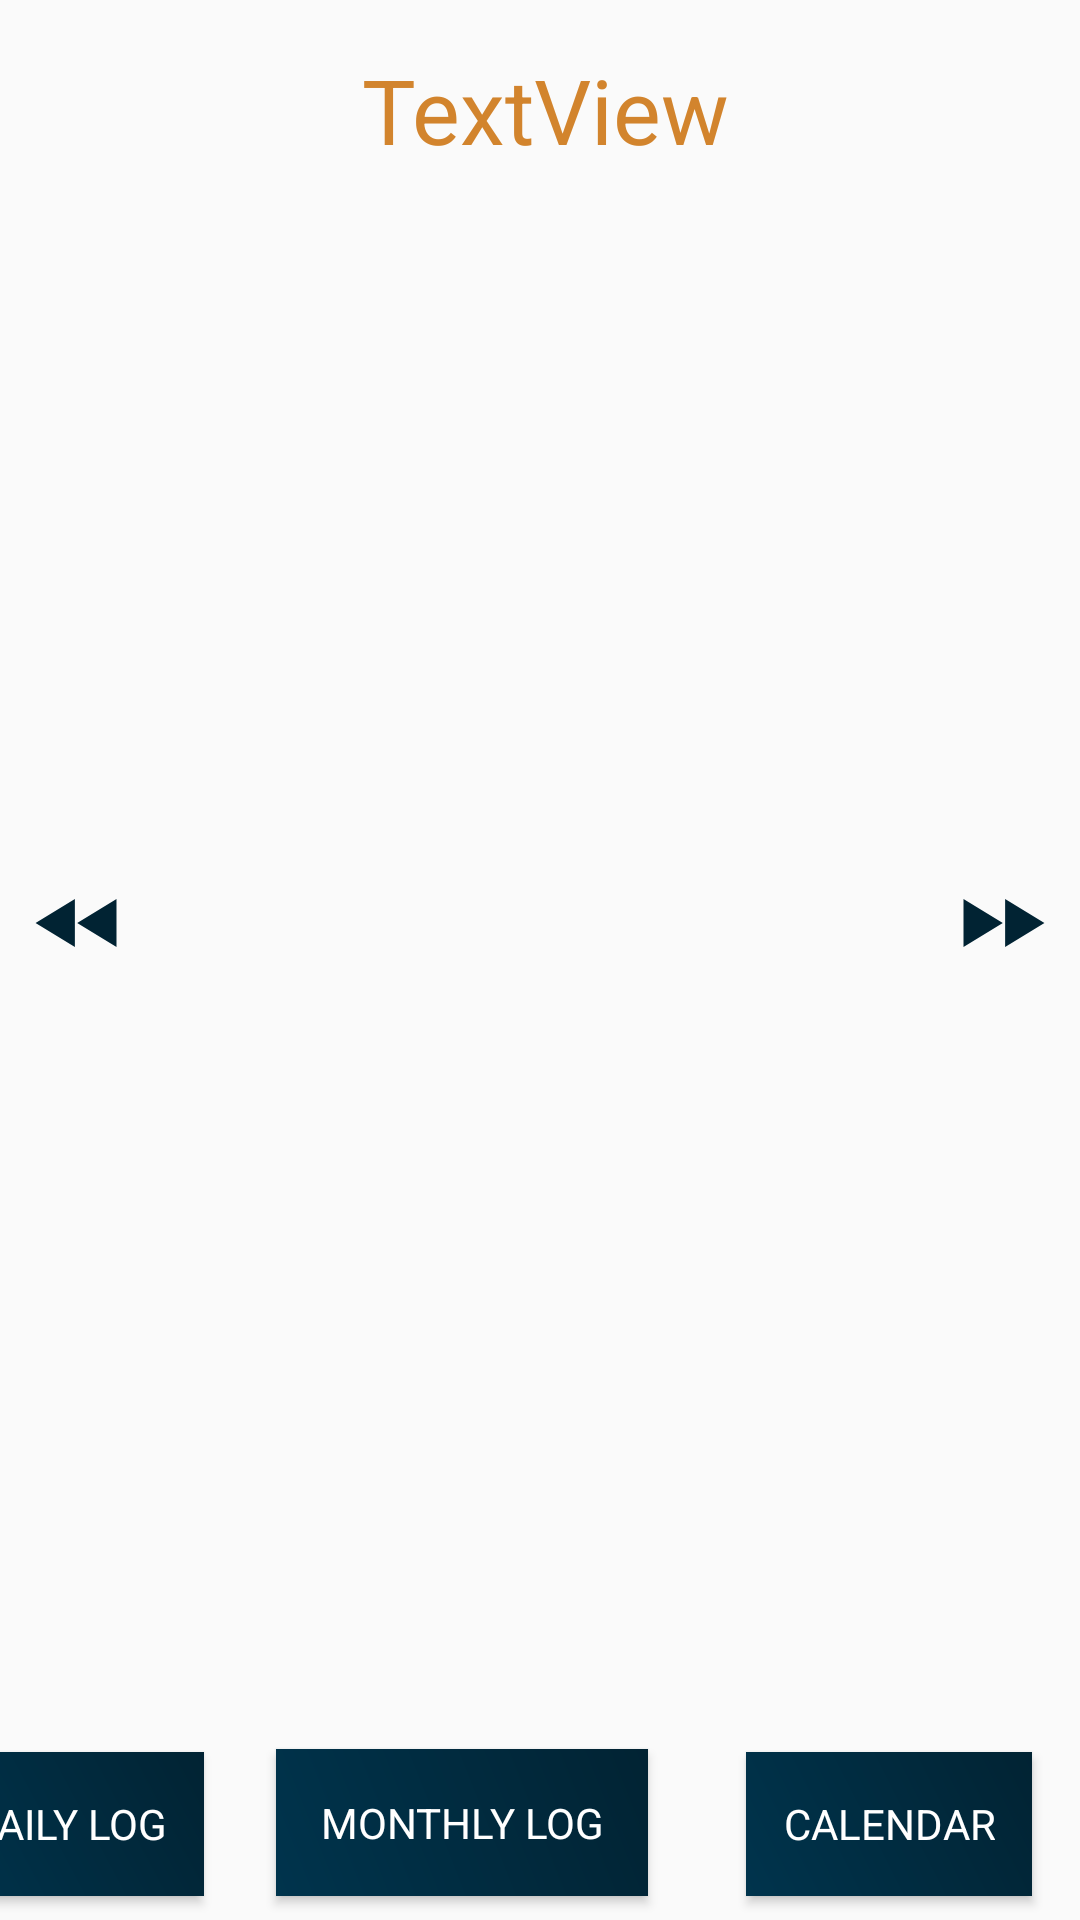

Where to tap for icons on this 1080x1920 app screen, as point (x, y):
backword: point (76, 923)
forward: point (1003, 923)
